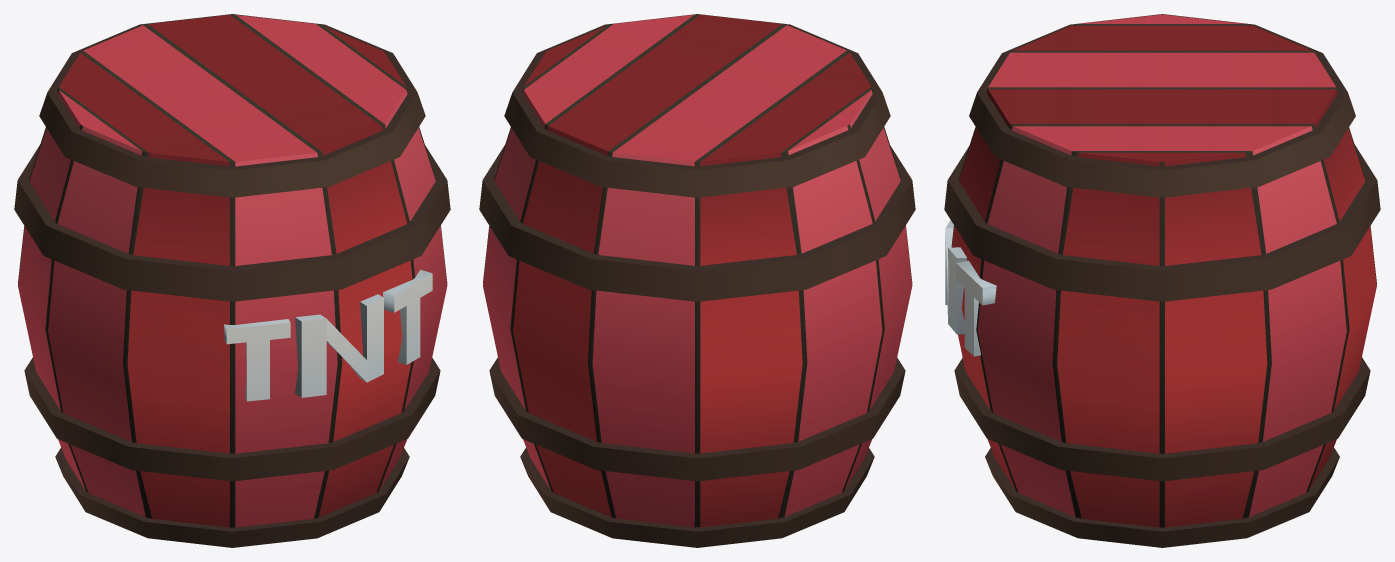
File: TNT.fbx
The picture shows the model from 3 angles, left to right: view 1: azimuth 30°, elevation 25°; view 2: azimuth 150°, elevation 25°; view 3: azimuth 270°, elevation 25°; orthographic projection.
Parts seen in each view (by area): view 1: TNT; view 2: TNT; view 3: TNT.
Part boxes in pixels (x1=…): TNT: x1=14, y1=14, x2=450, y2=547; TNT: x1=479, y1=14, x2=915, y2=547; TNT: x1=944, y1=14, x2=1380, y2=547.
Bounding box in the file's own units: 7.37 × 7.29 × 7.37.
